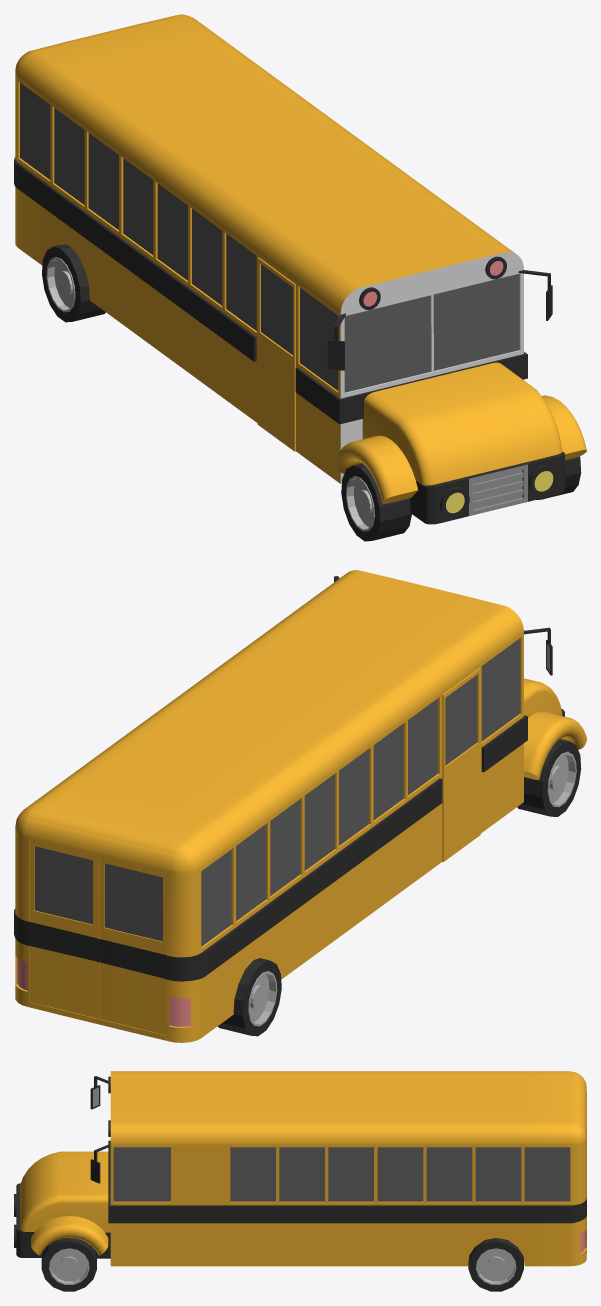
The model's file is car2.glb.
3 views of the same model, one above another, from view 1: azimuth 30°, elevation 25°; view 2: azimuth 150°, elevation 25°; view 3: azimuth 270°, elevation 25° (orthographic). The views are drawn at different scales.
Visible parts, largest first — view 1: Object_9, Object_6, Object_5, Object_4, Object_2, Object_7; view 2: Object_9, Object_6, Object_5, Object_2, Object_8; view 3: Object_9, Object_6, Object_5, Object_2.
Boxes of the visible parts, left/top/right/bottom form: Object_9: left=15, top=14, right=586, bottom=503; Object_6: left=20, top=83, right=519, bottom=392; Object_5: left=14, top=157, right=581, bottom=541; Object_4: left=340, top=252, right=523, bottom=483; Object_2: left=46, top=257, right=374, bottom=531; Object_7: left=469, top=464, right=527, bottom=515; Object_9: left=15, top=570, right=586, bottom=1042; Object_6: left=34, top=638, right=520, bottom=946; Object_5: left=14, top=576, right=581, bottom=1036; Object_2: left=248, top=751, right=576, bottom=1026; Object_8: left=17, top=958, right=190, bottom=1026; Object_9: left=20, top=1071, right=586, bottom=1266; Object_6: left=113, top=1147, right=570, bottom=1201; Object_5: left=14, top=1076, right=586, bottom=1291; Object_2: left=49, top=1248, right=516, bottom=1284.
Size of the model in its own units: 0.4849 by 0.4591 by 1.5.
